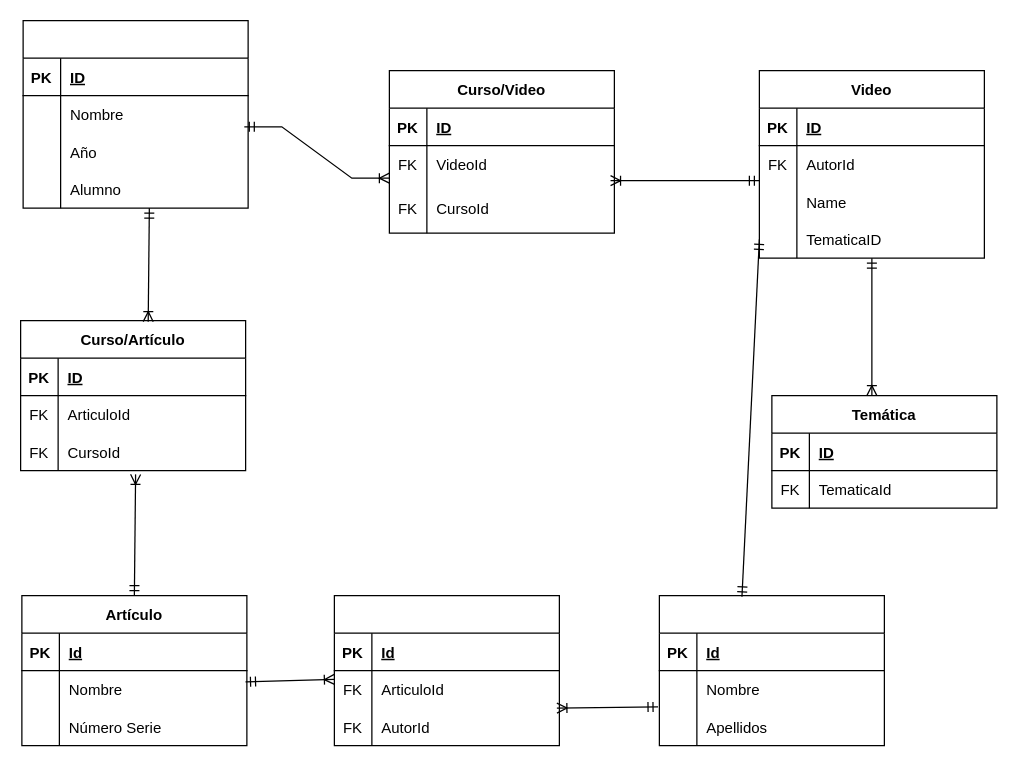
This 1018x766 diagram has some shape labels left out. The shapes that lost their labels are listed below. From the top down, each one's box as (x1, y1, x2, y2) in pixels, then its label:
(22, 19, 248, 208): Curso
(333, 594, 559, 746): Articulo/Autor
(658, 594, 884, 746): Autor
